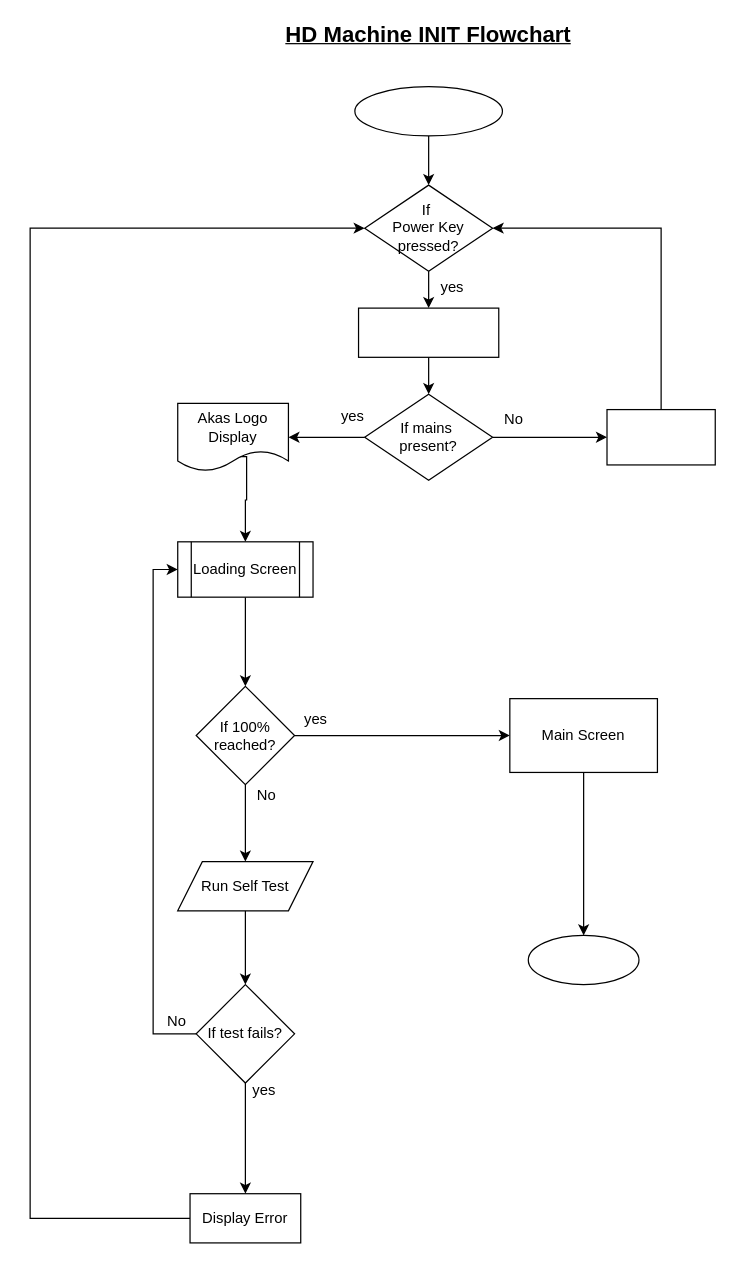
Some shapes in this 737 by 1264 pixel diagram are drawn without their labels. Each missing label, with the box of its shape:
Checking Power Source: (357, 307, 499, 357)
Start: (354, 85, 502, 136)
Stop: (527, 934, 639, 985)
Trigger Alarm [Stop Init]: (606, 408, 715, 465)
